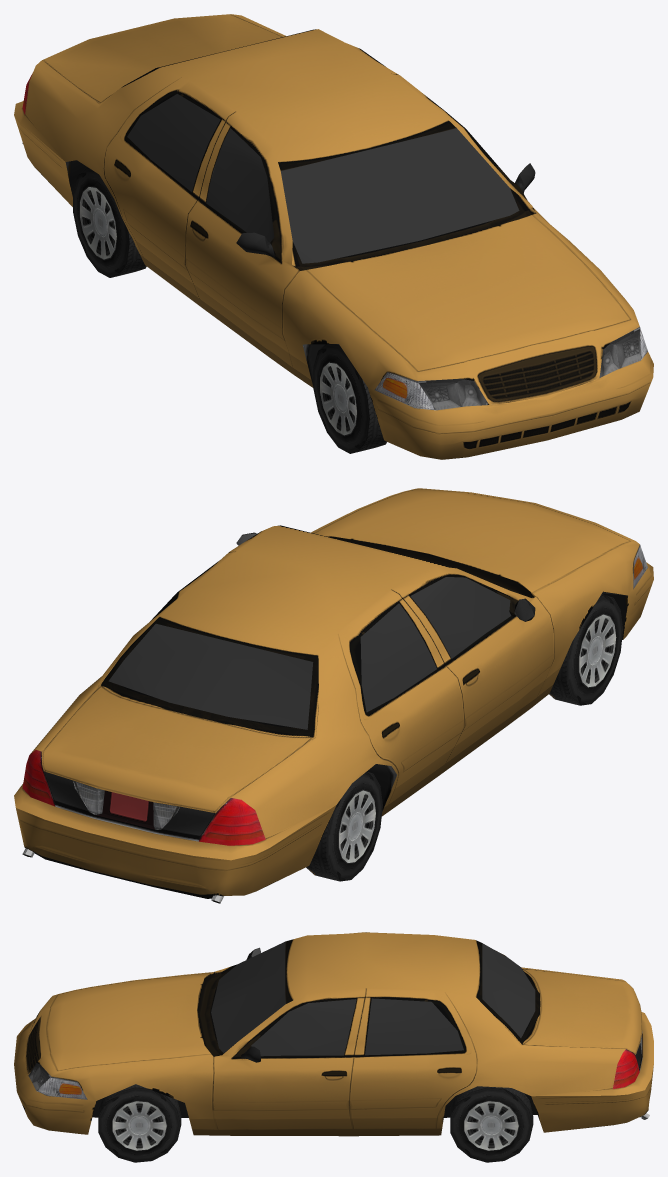
File: syj_car03.FBX
3 renders of one model, top to bottom at view 1: azimuth 30°, elevation 25°; view 2: azimuth 150°, elevation 25°; view 3: azimuth 270°, elevation 25°, orthographic. The views are drawn at different scales.
Visible parts, largest first — view 1: syj_car03; view 2: syj_car03; view 3: syj_car03.
Part boxes in pixels (x1,y1,x2,y2): syj_car03: (14,14,653,459); syj_car03: (14,488,653,903); syj_car03: (14,932,653,1162).
Bounding box in the file's own units: 209 × 143 × 530.
